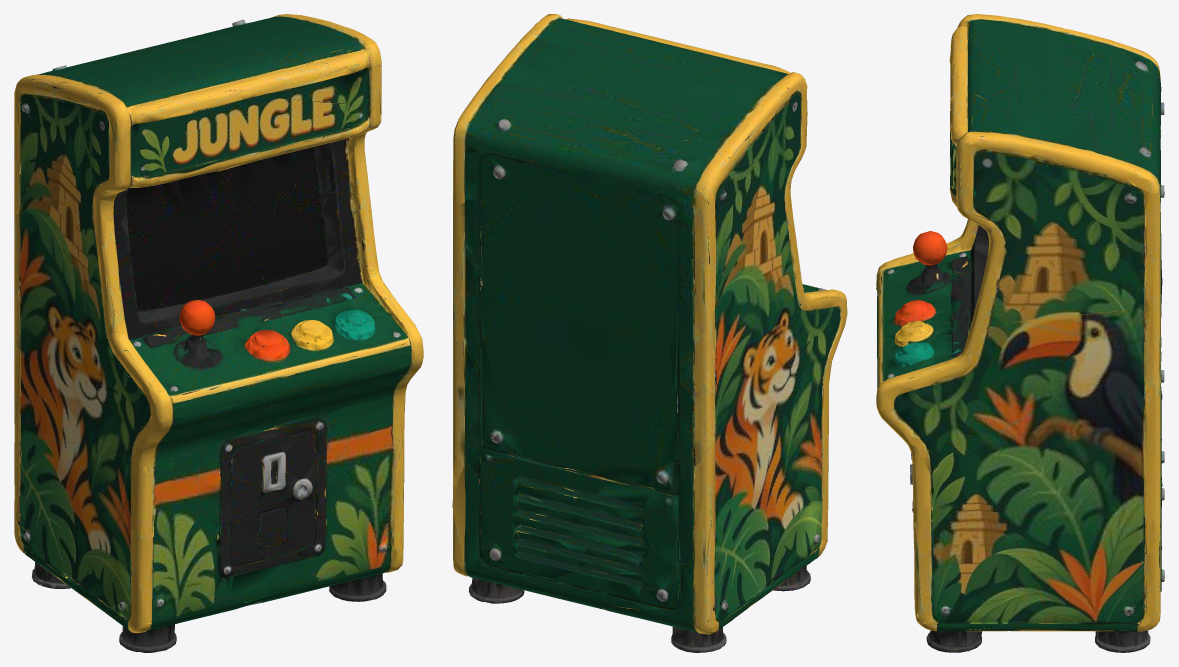
Rendered from arcade_jungle.glb.
The picture shows the model from 3 angles, left to right: view 1: azimuth 30°, elevation 25°; view 2: azimuth 150°, elevation 25°; view 3: azimuth 270°, elevation 25°; orthographic projection. The views are drawn at different scales.
Visible parts, largest first — view 1: Mesh_0; view 2: Mesh_0; view 3: Mesh_0.
Part boxes in pixels (bbox=[...]): Mesh_0: bbox=[14, 14, 423, 652]; Mesh_0: bbox=[452, 14, 847, 652]; Mesh_0: bbox=[876, 14, 1164, 652].
Size of the model in its own units: 1 by 1.88 by 0.9502.
Materials: 1 (1 with a texture image).
